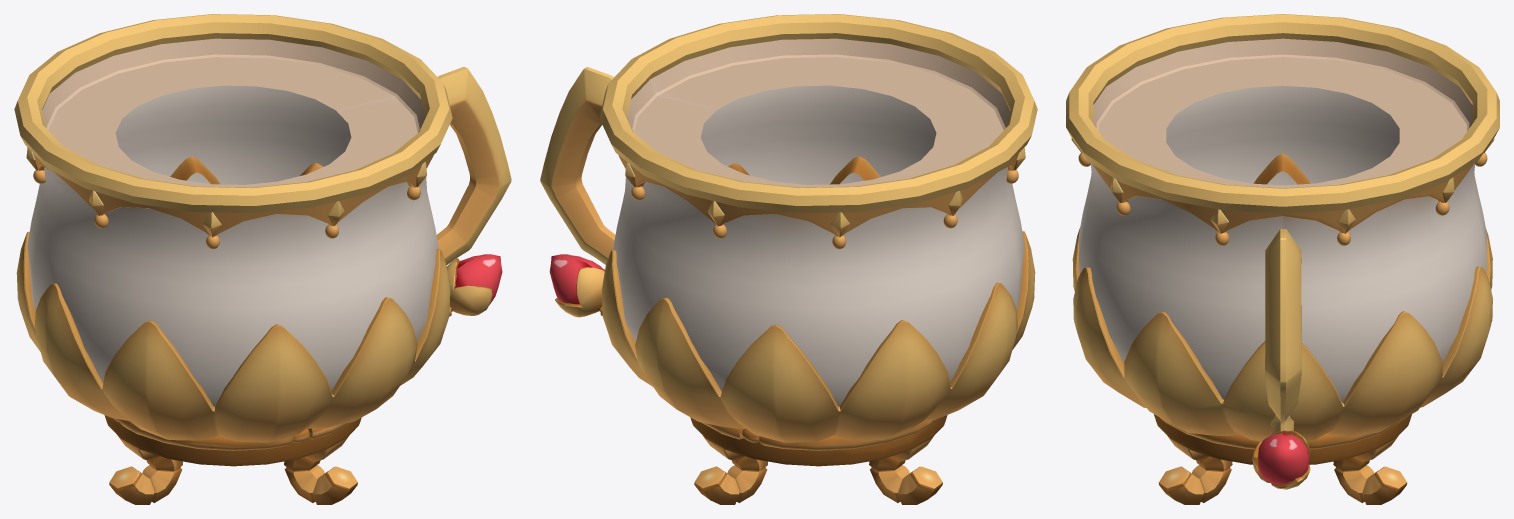
The model's file is Boss_Cup.fbx.
The picture shows the model from 3 angles, left to right: view 1: azimuth 30°, elevation 25°; view 2: azimuth 150°, elevation 25°; view 3: azimuth 270°, elevation 25°; orthographic projection.
Visible parts, largest first — view 1: CUP 3; view 2: CUP 3; view 3: CUP 3.
Boxes of the visible parts, box(x1,y1,x2,y2) form: CUP 3: box(14, 14, 511, 504); CUP 3: box(540, 14, 1037, 504); CUP 3: box(1066, 14, 1499, 504).
Size of the model in its own units: 13.77 by 10.68 by 11.1.
